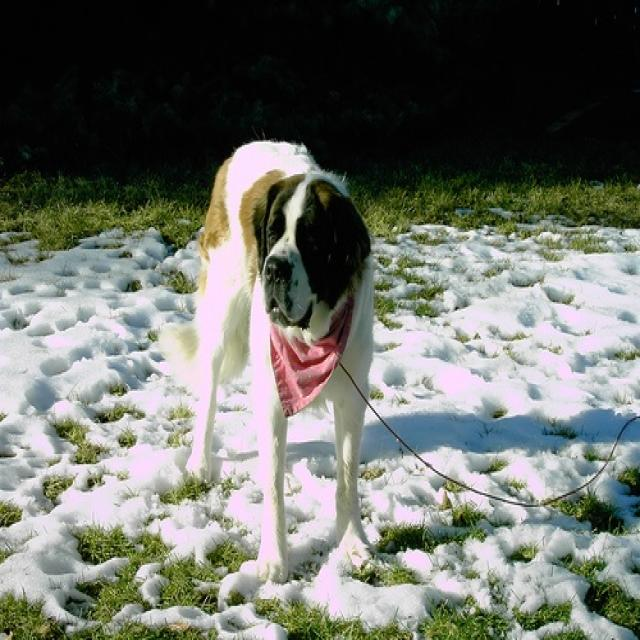dog: (159, 140, 376, 585)
